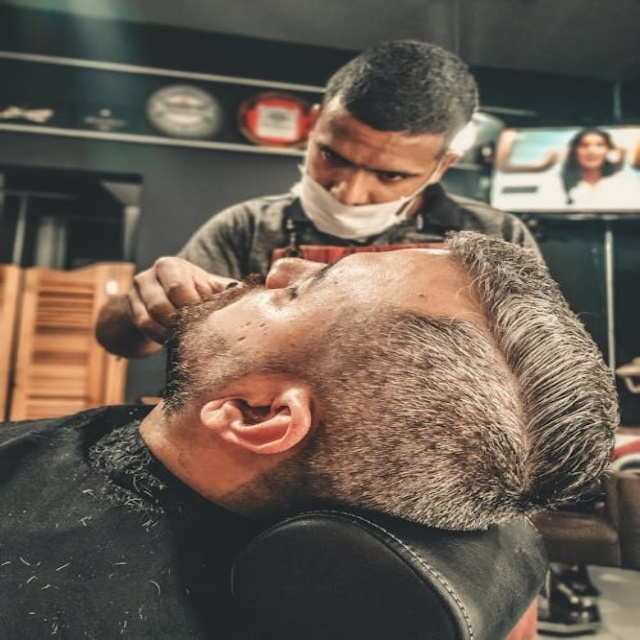Mascara: (293, 156, 424, 241)
Sin_gafas: (271, 246, 349, 340), (307, 133, 434, 183)
Sin_mascara: (574, 147, 609, 170)
